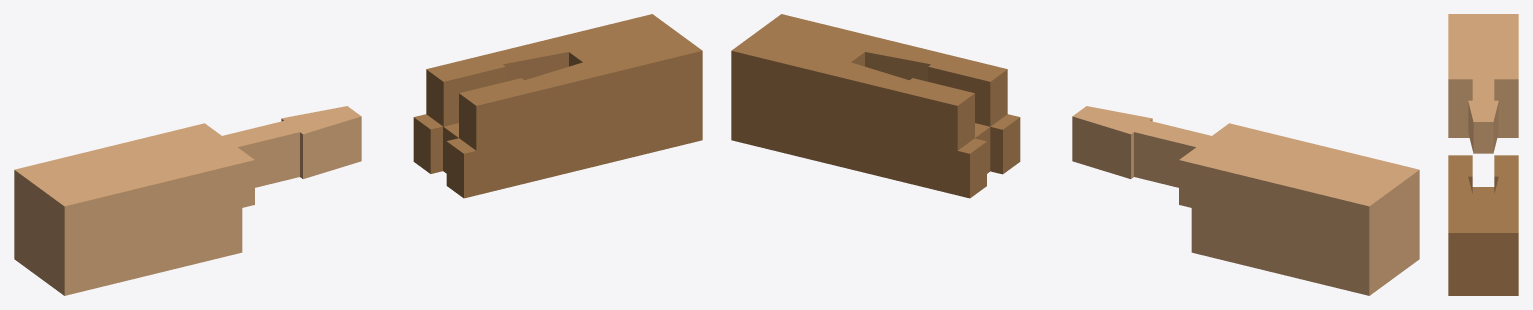
File: Kamatsugi.glb
3 renders of one model, left to right at view 1: azimuth 30°, elevation 25°; view 2: azimuth 150°, elevation 25°; view 3: azimuth 270°, elevation 25°, orthographic. The views are drawn at different scales.
Parts seen in each view (by area): view 1: FamilyInstance Modelos genéricos KAMIKAKE KAMATSUGI MACHO <3, FamilyInstance Modelos genéricos KAMIKAKE KAMATSUGI FEMEA <3; view 2: FamilyInstance Modelos genéricos KAMIKAKE KAMATSUGI MACHO <3, FamilyInstance Modelos genéricos KAMIKAKE KAMATSUGI FEMEA <3; view 3: FamilyInstance Modelos genéricos KAMIKAKE KAMATSUGI FEMEA <3, FamilyInstance Modelos genéricos KAMIKAKE KAMATSUGI MACHO <3.
Boxes of the visible parts, x1,y1,x2,y2 form: FamilyInstance Modelos genéricos KAMIKAKE KAMATSUGI MACHO <3: (14, 106, 361, 295); FamilyInstance Modelos genéricos KAMIKAKE KAMATSUGI FEMEA <3: (413, 14, 702, 198); FamilyInstance Modelos genéricos KAMIKAKE KAMATSUGI MACHO <3: (1072, 106, 1419, 295); FamilyInstance Modelos genéricos KAMIKAKE KAMATSUGI FEMEA <3: (731, 14, 1020, 198); FamilyInstance Modelos genéricos KAMIKAKE KAMATSUGI FEMEA <3: (1448, 155, 1518, 295); FamilyInstance Modelos genéricos KAMIKAKE KAMATSUGI MACHO <3: (1448, 14, 1518, 153).
Size of the model in its own units: 7.78 by 1.04 by 1.06.
